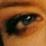eye: (23, 16, 35, 24)
